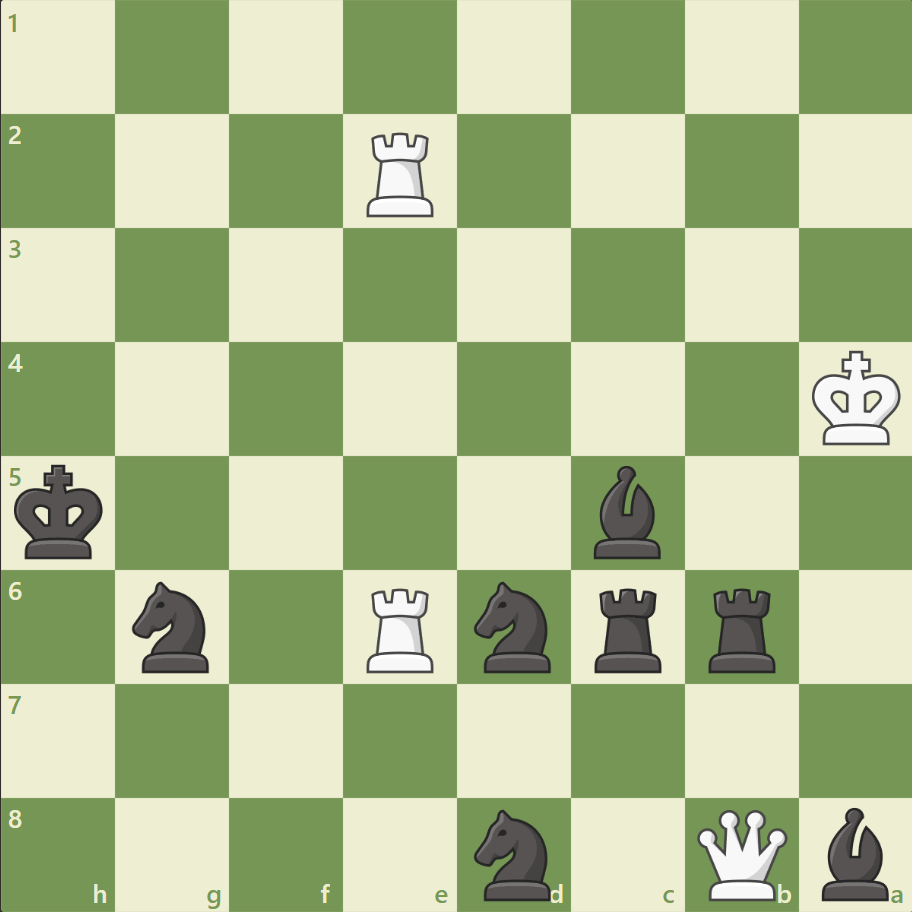K: (806, 344, 906, 452)
Q: (691, 804, 790, 903)
R: (360, 579, 442, 676), (360, 125, 442, 222)
b: (812, 801, 896, 904), (585, 460, 669, 563)
k: (11, 458, 111, 566)
n: (124, 575, 222, 677), (465, 802, 562, 904), (465, 575, 562, 677)
r: (700, 579, 783, 676), (587, 579, 670, 676)
